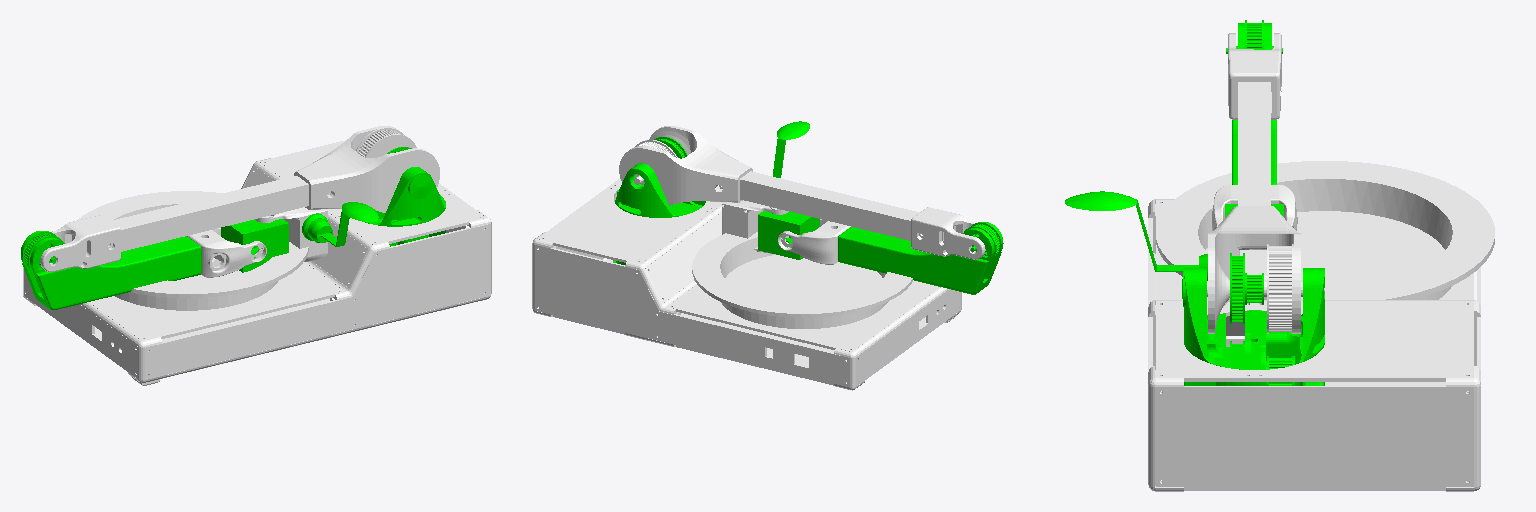
The robot description file, URDF, robot "6axis_P1_07112020":
<?xml version="1.0" ?>
<robot name="6axis_P1_07112020">
    <material name="white">
        <color rgba="1.000 1.000 1.000 1.000" />
    </material>
    <material name="green">
        <color rgba="0.000 1.000 0.000 1.000" />
    </material>
    <link name="base_link">
        
<inertial>
            <origin rpy="0 0 0" xyz="0.2015053184776775 0.11758838194281962 0.04512861721269978" />
            <mass value="6.659705905754913" />
            <inertia ixx="0.0501630399431114" ixy="-0.0013008900702520254" ixz="-0.0022896275669882435" iyy="0.10387029802925885" iyz="-0.0012173410839137963" izz="0.14581681962781345" />
        </inertial>

        <visual>
            <origin rpy="0 0 0" xyz="0 0 0" />
            <geometry>
                <mesh filename="package://ooafm_description/meshes/base_link.stl" scale="0.001 0.001 0.001" />
            </geometry>
            <material name="white" />
        </visual>
        <collision>
            <origin rpy="0 0 0" xyz="0 0 0" />
            <geometry>
                <mesh filename="package://ooafm_description/meshes/base_link.stl" scale="0.001 0.001 0.001" />
            </geometry>
        </collision>
    </link>
    <link name="link1">
        
<inertial>
            <origin rpy="0 0 0" xyz="0.0007700722921130665 -0.0013856150355606445 0.06552530665192481" />
            <mass value="0.5677548996654498" />
            <inertia ixx="0.0013151986115877493" ixy="-3.5565354261649085e-05" ixz="6.249845320983188e-06" iyy="0.001202957839453761" iyz="0.00011413791605389273" izz="0.0006287665930630182" />
        </inertial>

        <visual>
            <origin rpy="0 0 0" xyz="-0.332 -0.075 -0.013" />
            <geometry>
                <mesh filename="package://ooafm_description/meshes/link1.stl" scale="0.001 0.001 0.001" />
            </geometry>
            <material name="green" />
        </visual>
        <collision>
            <origin rpy="0 0 0" xyz="-0.332 -0.075 -0.013" />
            <geometry>
                <mesh filename="package://ooafm_description/meshes/link1.stl" scale="0.001 0.001 0.001" />
            </geometry>
        </collision>
    </link>
    <link name="link2">
        
<inertial>
            <origin rpy="0 0 0" xyz="-0.11189758057721555 0.0017859745233756025 1.591133273470824e-05" />
            <mass value="0.40014428729850193" />
            <inertia ixx="0.00020672969965078447" ixy="-8.4402257792166e-05" ixz="1.6395736756082135e-06" iyy="0.006636150573159364" iyz="1.5016131988017378e-08" izz="0.006727290813019208" />
        </inertial>

        <visual>
            <origin rpy="0 0 0" xyz="-0.332 -0.075004 -0.128" />
            <geometry>
                <mesh filename="package://ooafm_description/meshes/link2.stl" scale="0.001 0.001 0.001" />
            </geometry>
            <material name="white" />
        </visual>
        <collision>
            <origin rpy="0 0 0" xyz="-0.332 -0.075004 -0.128" />
            <geometry>
                <mesh filename="package://ooafm_description/meshes/link2.stl" scale="0.001 0.001 0.001" />
            </geometry>
        </collision>
    </link>
    <link name="link3">
        
<inertial>
            <origin rpy="0 0 0" xyz="0.05061317213494289 -2.909328576800041e-07 -0.027312557018255385" />
            <mass value="0.1342933986776452" />
            <inertia ixx="7.10421569787927e-05" ixy="-3.25255179124055e-09" ixz="8.15350875553288e-05" iyy="0.0004522319561627527" iyz="6.915737571369998e-09" izz="0.00041141599179111" />
        </inertial>

        <visual>
            <origin rpy="0 0 0" xyz="0.066 -0.075004 -0.128" />
            <geometry>
                <mesh filename="package://ooafm_description/meshes/link3.stl" scale="0.001 0.001 0.001" />
            </geometry>
            <material name="green" />
        </visual>
        <collision>
            <origin rpy="0 0 0" xyz="0.066 -0.075004 -0.128" />
            <geometry>
                <mesh filename="package://ooafm_description/meshes/link3.stl" scale="0.001 0.001 0.001" />
            </geometry>
        </collision>
    </link>
    <link name="link3bis">
        
<inertial>
            <origin rpy="0 0 0" xyz="0.15923841202317715 0.0003760321357990648 -2.430993090415945e-05" />
            <mass value="0.37712774972855595" />
            <inertia ixx="0.00015394658234137333" ixy="5.310008507507322e-06" ixz="-2.4286191996967903e-06" iyy="0.0009479557106644443" iyz="1.3228293695511165e-06" izz="0.0010280276452876809" />
        </inertial>

        <visual>
            <origin rpy="0 0 0" xyz="0.056 -0.075004 -0.087" />
            <geometry>
                <mesh filename="package://ooafm_description/meshes/link3bis.stl" scale="0.001 0.001 0.001" />
            </geometry>
            <material name="white" />
        </visual>
        <collision>
            <origin rpy="0 0 0" xyz="0.056 -0.075004 -0.087" />
            <geometry>
                <mesh filename="package://ooafm_description/meshes/link3bis.stl" scale="0.001 0.001 0.001" />
            </geometry>
        </collision>
    </link>
    <link name="link4">
        
<inertial>
            <origin rpy="0 0 0" xyz="0.012022124274378404 0.02084962455956421 1.3461454173580023e-15" />
            <mass value="0.1990875522748603" />
            <inertia ixx="8.81991135427999e-05" ixy="-1.5699247457590104e-16" ixz="8.673617379884035e-19" iyy="0.00011260694876648325" iyz="2.168404344971009e-19" izz="0.00011260694871441379" />
        </inertial>

        <visual>
            <origin rpy="0 0 0" xyz="-0.161 -0.054204 -0.087" />
            <geometry>
                <mesh filename="package://ooafm_description/meshes/link4.stl" scale="0.001 0.001 0.001" />
            </geometry>
            <material name="green" />
        </visual>
        <collision>
            <origin rpy="0 0 0" xyz="-0.161 -0.054204 -0.087" />
            <geometry>
                <mesh filename="package://ooafm_description/meshes/link4.stl" scale="0.001 0.001 0.001" />
            </geometry>
        </collision>
    </link>
    <link name="link5">
        
<inertial>
            <origin rpy="0 0 0" xyz="0.040568011745826055 -0.0009775894345004782 -0.021903477884617842" />
            <mass value="0.2933674530175577" />
            <inertia ixx="0.00013966245475354301" ixy="8.474432683733962e-07" ixz="3.1037111834879283e-06" iyy="0.0001713745505454202" iyz="-5.739884864047317e-06" izz="0.00010555653940405932" />
        </inertial>

        <visual>
            <origin rpy="0 0 0" xyz="-0.1847 -0.075054 -0.105999" />
            <geometry>
                <mesh filename="package://ooafm_description/meshes/link5.stl" scale="0.001 0.001 0.001" />
            </geometry>
            <material name="white" />
        </visual>
        <collision>
            <origin rpy="0 0 0" xyz="-0.1847 -0.075054 -0.105999" />
            <geometry>
                <mesh filename="package://ooafm_description/meshes/link5.stl" scale="0.001 0.001 0.001" />
            </geometry>
        </collision>
    </link>
    <link name="link6">
        
<inertial>
            <origin rpy="0 0 0" xyz="1.790019413250299e-08 -0.01926283818579877 0.005373323232315666" />
            <mass value="0.0653410095203353" />
            <inertia ixx="2.9414297691998832e-05" ixy="-7.748888553385513e-12" ixz="-2.2914135866525243e-12" iyy="1.6656440294585823e-05" iyz="1.1377228089725516e-05" izz="1.714308078841877e-05" />
        </inertial>

        <visual>
            <origin rpy="0 0 0" xyz="-0.2297 -0.06185 -0.095999" />
            <geometry>
                <mesh filename="package://ooafm_description/meshes/link6.stl" scale="0.001 0.001 0.001" />
            </geometry>
            <material name="green" />
        </visual>
        <collision>
            <origin rpy="0 0 0" xyz="-0.2297 -0.06185 -0.095999" />
            <geometry>
                <mesh filename="package://ooafm_description/meshes/link6.stl" scale="0.001 0.001 0.001" />
            </geometry>
        </collision>
    </link>
    <link name="endEffector" />
    <joint name="Rev30" type="continuous">
        <origin rpy="0 0 0" xyz="0.332 0.075 0.013" />
        <parent link="base_link" />
        <child link="link1" />
        <axis xyz="0.0 0.0 -1.0" />
    </joint>
    
<transmission name="Rev30_tran">
        <type>transmission_interface/SimpleTransmission</type>
        <joint name="Rev30">
            <hardwareInterface>PositionJointInterface</hardwareInterface>
        </joint>
        <actuator name="Rev30_actr">
            <hardwareInterface>PositionJointInterface</hardwareInterface>
            <mechanicalReduction>1</mechanicalReduction>
        </actuator>
    </transmission>
    <joint name="Rev31" type="continuous">
        <origin rpy="0 0 0" xyz="0.0 4e-06 0.115" />
        <parent link="link1" />
        <child link="link2" />
        <axis xyz="0.0 -1.0 0.0" />
    </joint>
    <transmission name="Rev31_tran">
        <type>transmission_interface/SimpleTransmission</type>
        <joint name="Rev31">
            <hardwareInterface>PositionJointInterface</hardwareInterface>
        </joint>
        <actuator name="Rev31_actr">
            <hardwareInterface>PositionJointInterface</hardwareInterface>
            <mechanicalReduction>1</mechanicalReduction>
        </actuator>
    </transmission>
    <joint name="Rev32" type="continuous">
        <origin rpy="0 0 0" xyz="-0.398 0.0 0.0" />
        <parent link="link2" />
        <child link="link3" />
        <axis xyz="0.0 1.0 0.0" />
    </joint>
    <transmission name="Rev32_tran">
        <type>transmission_interface/SimpleTransmission</type>
        <joint name="Rev32">
            <hardwareInterface>PositionJointInterface</hardwareInterface>
        </joint>
        <actuator name="Rev32_actr">
            <hardwareInterface>PositionJointInterface</hardwareInterface>
            <mechanicalReduction>1</mechanicalReduction>
        </actuator>
    </transmission>
    <joint name="Slider33" type="prismatic">
        <origin rpy="0 0 0" xyz="0.01 0.0 -0.041" />
        <parent link="link3" />
        <child link="link3bis" />
        <axis xyz="1.0 0.0 0.0" />
        <limit effort="100" lower="0.0" upper="0.132" velocity="100" />
    </joint>
    <transmission name="Slider33_tran">
        <type>transmission_interface/SimpleTransmission</type>
        <joint name="Slider33">
            <hardwareInterface>PositionJointInterface</hardwareInterface>
        </joint>
        <actuator name="Slider33_actr">
            <hardwareInterface>PositionJointInterface</hardwareInterface>
            <mechanicalReduction>1</mechanicalReduction>
        </actuator>
    </transmission>
    <joint name="Rev34" type="continuous">
        <origin rpy="0 0 0" xyz="0.217 -0.0208 0.0" />
        <parent link="link3bis" />
        <child link="link4" />
        <axis xyz="0.0 -1.0 0.0" />
    </joint>
    <transmission name="Rev34_tran">
        <type>transmission_interface/SimpleTransmission</type>
        <joint name="Rev34">
            <hardwareInterface>PositionJointInterface</hardwareInterface>
        </joint>
        <actuator name="Rev34_actr">
            <hardwareInterface>PositionJointInterface</hardwareInterface>
            <mechanicalReduction>1</mechanicalReduction>
        </actuator>
    </transmission>
    <joint name="Rev35" type="continuous">
        <origin rpy="0 0 0" xyz="0.0237 0.02085 0.018999" />
        <parent link="link4" />
        <child link="link5" />
        <axis xyz="0.0 -0.0 -1.0" />
    </joint>
    <transmission name="Rev35_tran">
        <type>transmission_interface/SimpleTransmission</type>
        <joint name="Rev35">
            <hardwareInterface>PositionJointInterface</hardwareInterface>
        </joint>
        <actuator name="Rev35_actr">
            <hardwareInterface>PositionJointInterface</hardwareInterface>
            <mechanicalReduction>1</mechanicalReduction>
        </actuator>
    </transmission>
    <joint name="Rev36" type="continuous">
        <origin rpy="0 0 0" xyz="0.045 -0.013204 -0.01" />
        <parent link="link5" />
        <child link="link6" />
        <axis xyz="0.0 1.0 0.0" />
    </joint>
    <transmission name="Rev36_tran">
        <type>transmission_interface/SimpleTransmission</type>
        <joint name="Rev36">
            <hardwareInterface>PositionJointInterface</hardwareInterface>
        </joint>
        <actuator name="Rev36_actr">
            <hardwareInterface>PositionJointInterface</hardwareInterface>
            <mechanicalReduction>1</mechanicalReduction>
        </actuator>
    </transmission>
    <joint name="transEndEffector" type="fixed">
        <origin rpy="0 0 0" xyz="0.0 -0.090 0.05065" />
        <parent link="link6" />
        <child link="endEffector" />
    </joint>
    <transmission name="trans_Rev30">
        <type>transmission_interface/SimpleTransmission</type>
        <joint name="Rev30">
            <hardwareInterface>hardware_interface/PositionJointInterface</hardwareInterface>
        </joint>
        <actuator name="Rev30_motor">
            <hardwareInterface>hardware_interface/PositionJointInterface</hardwareInterface>
            <mechanicalReduction>1</mechanicalReduction>
        </actuator>
    </transmission>
    <transmission name="trans_Rev31">
        <type>transmission_interface/SimpleTransmission</type>
        <joint name="Rev31">
            <hardwareInterface>hardware_interface/PositionJointInterface</hardwareInterface>
        </joint>
        <actuator name="Rev31_motor">
            <hardwareInterface>hardware_interface/PositionJointInterface</hardwareInterface>
            <mechanicalReduction>1</mechanicalReduction>
        </actuator>
    </transmission>
    <transmission name="trans_Rev32">
        <type>transmission_interface/SimpleTransmission</type>
        <joint name="Rev32">
            <hardwareInterface>hardware_interface/PositionJointInterface</hardwareInterface>
        </joint>
        <actuator name="Rev32_motor">
            <hardwareInterface>hardware_interface/PositionJointInterface</hardwareInterface>
            <mechanicalReduction>1</mechanicalReduction>
        </actuator>
    </transmission>
    <transmission name="trans_Slider33">
        <type>transmission_interface/SimpleTransmission</type>
        <joint name="Slider33">
            <hardwareInterface>hardware_interface/PositionJointInterface</hardwareInterface>
        </joint>
        <actuator name="Slider33_motor">
            <hardwareInterface>hardware_interface/PositionJointInterface</hardwareInterface>
            <mechanicalReduction>1</mechanicalReduction>
        </actuator>
    </transmission>
    <transmission name="trans_Rev34">
        <type>transmission_interface/SimpleTransmission</type>
        <joint name="Rev34">
            <hardwareInterface>hardware_interface/PositionJointInterface</hardwareInterface>
        </joint>
        <actuator name="Rev34_motor">
            <hardwareInterface>hardware_interface/PositionJointInterface</hardwareInterface>
            <mechanicalReduction>1</mechanicalReduction>
        </actuator>
    </transmission>
    <transmission name="trans_Rev35">
        <type>transmission_interface/SimpleTransmission</type>
        <joint name="Rev35">
            <hardwareInterface>hardware_interface/PositionJointInterface</hardwareInterface>
        </joint>
        <actuator name="Rev35_motor">
            <hardwareInterface>hardware_interface/PositionJointInterface</hardwareInterface>
            <mechanicalReduction>1</mechanicalReduction>
        </actuator>
    </transmission>
    <transmission name="trans_Rev36">
        <type>transmission_interface/SimpleTransmission</type>
        <joint name="Rev36">
            <hardwareInterface>hardware_interface/PositionJointInterface</hardwareInterface>
        </joint>
        <actuator name="Rev36_motor">
            <hardwareInterface>hardware_interface/PositionJointInterface</hardwareInterface>
            <mechanicalReduction>1</mechanicalReduction>
        </actuator>
    </transmission>
    <gazebo>
        <plugin name="gazebo_ros_control" filename="libgazebo_ros_control.so">
            <robotNamespace>/</robotNamespace>
        </plugin>
    </gazebo>
</robot>

--- Render facts (derived) ---
3 views of the same robot in one strip: view 1: azimuth 30°, elevation 25°; view 2: azimuth 150°, elevation 25°; view 3: azimuth 270°, elevation 25° (orthographic).
Model 6axis_P1_07112020 with 9 links and 8 joints (6 continuous, 1 prismatic, 1 fixed), rooted at base_link, posed all joints at 0.
Links seen in each view (by area): view 1: base_link, link2, link3, link1, link3bis, link4, link6, link5; view 2: base_link, link2, link3, link1, link3bis, link4, link5, link6; view 3: base_link, link2, link1, link3, link6, link3bis.
Link boxes in pixels (left/top/right/bottom): base_link: left=23, top=140, right=491, bottom=385; link2: left=40, top=126, right=439, bottom=271; link3: left=21, top=231, right=201, bottom=309; link1: left=365, top=147, right=445, bottom=246; link3bis: left=187, top=228, right=266, bottom=277; link4: left=221, top=219, right=288, bottom=272; link6: left=302, top=202, right=378, bottom=246; link5: left=255, top=207, right=327, bottom=261; base_link: left=532, top=179, right=961, bottom=390; link2: left=619, top=126, right=985, bottom=259; link3: left=838, top=222, right=1003, bottom=294; link1: left=614, top=137, right=705, bottom=264; link3bis: left=778, top=219, right=850, bottom=264; link4: left=758, top=211, right=819, bottom=259; link5: left=722, top=200, right=788, bottom=253; link6: left=773, top=121, right=809, bottom=177; base_link: left=1148, top=161, right=1494, bottom=491; link2: left=1207, top=33, right=1324, bottom=333; link1: left=1182, top=253, right=1324, bottom=385; link3: left=1226, top=20, right=1282, bottom=184; link6: left=1065, top=191, right=1207, bottom=280; link3bis: left=1212, top=185, right=1297, bottom=230.
Size in the robot's own frame: 0.4875 by 0.3041 by 0.165 metres.
Meshes: 8 distinct files referenced, 8 mesh visuals loaded (8 binary STL).